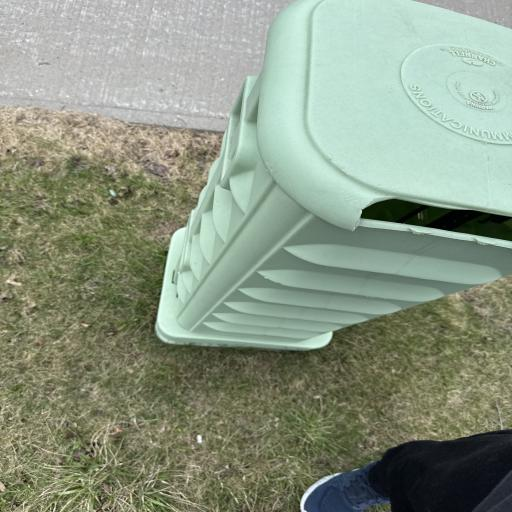Electrical Box: (156, 3, 512, 351)
